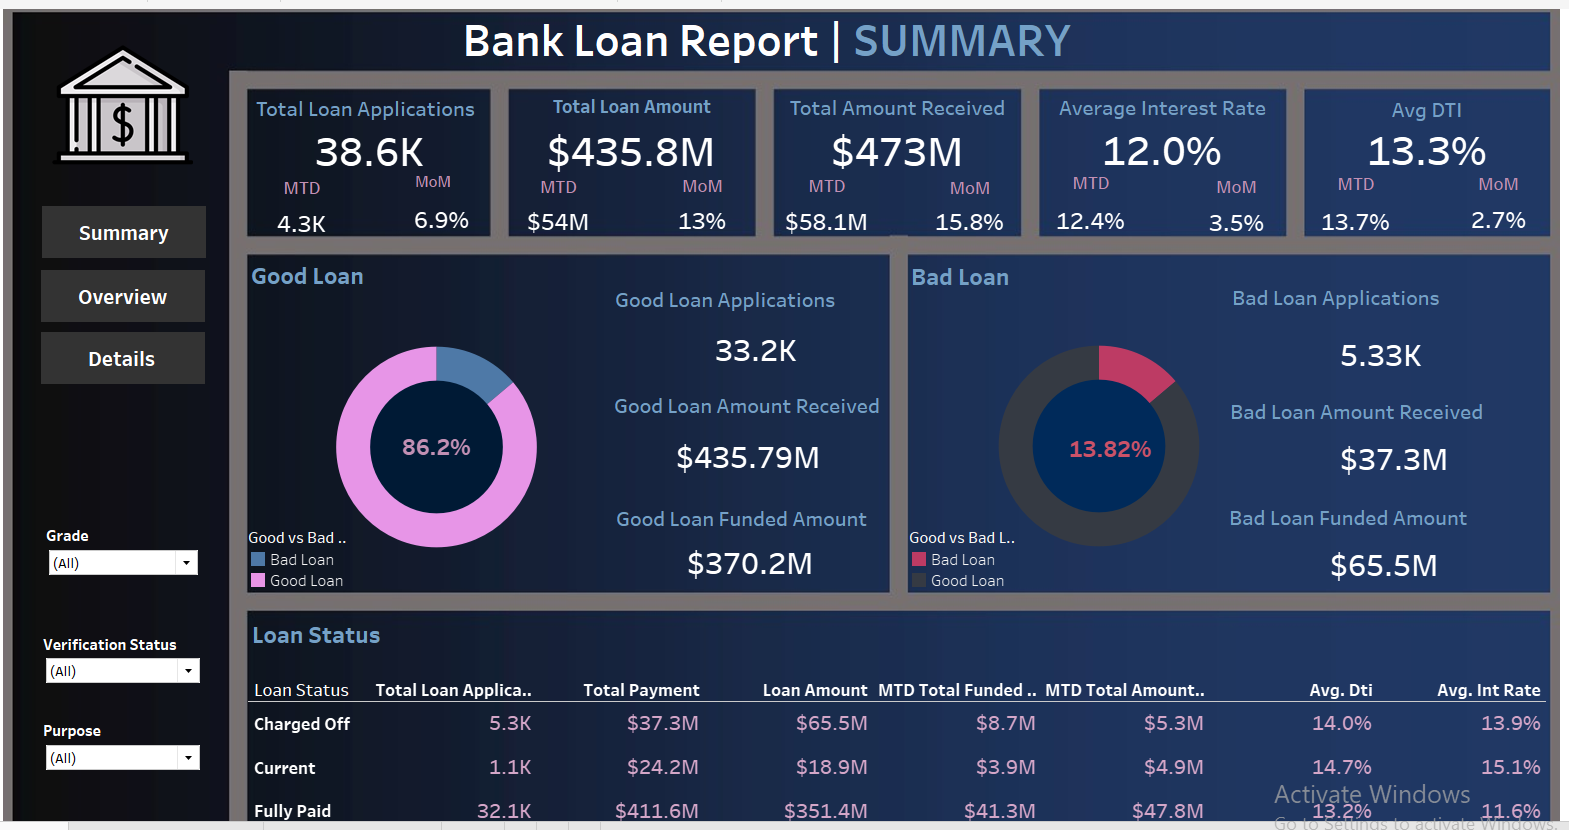

The page's visual inventory and layout, read from the dashboard file:
{"tool":"tableau","page":{"name":"Dashboard Summary","canvas":[1600,900],"ordinal":2},"visuals":[{"type":"image","param":"C:/Users/LENOVO/Downloads/Tableau Background 1.jpg","box":[8,8,1584,884]},{"type":"text","box":[477,21,620,49]},{"type":"image","param":"C:/Users/LENOVO/AppData/Local/Temp/TableauTemp/1yk98mv09h6rxd12l3qtc0nqyifh/Shee","box":[70,30,141,163]},{"type":"worksheet","title":"Total Funded Amount","mark":"Automatic","box":[527,96,246,83]},{"type":"worksheet","title":"Total Amount Received","mark":"Automatic","box":[793,96,245,80]},{"type":"worksheet","title":"Average Interest Rate","mark":"Automatic","box":[1055,96,251,78]},{"type":"worksheet","title":"Total Loan Applications","mark":"Automatic","box":[270,97,236,77]},{"type":"worksheet","title":"Avg DTI","mark":"Automatic","box":[1322,98,246,75]},{"type":"worksheet","title":"MTD Average Interest","mark":"Automatic","box":[1051,173,116,70]},{"type":"worksheet","title":"MoM Loan Applications","mark":"Automatic","box":[411,174,105,74]},{"type":"worksheet","title":"MTD Avg DTI","mark":"Automatic","box":[1322,174,104,70]},{"type":"worksheet","title":"MoM Avg DTI","mark":"Automatic","box":[1456,174,121,65]},{"type":"worksheet","title":"MoM Funded Amount","mark":"Automatic","box":[656,176,129,63]},{"type":"worksheet","title":"MTD Total Amount Received","mark":"Automatic","box":[794,176,102,65]},{"type":"worksheet","title":"MTD Total Funded Amount","mark":"Automatic","box":[524,177,105,63]},{"type":"worksheet","title":"MoM Average Interest","mark":"Automatic","box":[1193,177,123,66]},{"type":"worksheet","title":"MTD Loan Applications","mark":"Automatic","box":[266,178,108,65]},{"type":"worksheet","title":"MoM Total Amount Received","mark":"Automatic","box":[931,178,114,62]},{"type":"dashboard-object","box":[60,213,164,52]},{"type":"worksheet","title":"Good Loan","mark":"Pie","rows":["Calculation_77405639552786454","Calculation_77405639552897048"],"box":[265,262,379,337]},{"type":"worksheet","title":"Bad Loan","mark":"Pie","rows":["Calculation_77405639552786454","Calculation_77405639552897048"],"box":[925,263,384,333]},{"type":"dashboard-object","box":[59,277,164,52]},{"type":"worksheet","title":"Bad Loan Applications","mark":"Automatic","box":[1246,286,307,108]},{"type":"worksheet","title":"Good Loan Applications","mark":"Automatic","box":[629,288,291,93]},{"type":"dashboard-object","box":[59,339,164,52]},{"type":"worksheet","title":"Good Loan Amount Received","mark":"Automatic","box":[628,394,278,95]},{"type":"worksheet","title":"Bad Loan Amount Received","mark":"Automatic","box":[1244,400,338,88]},{"type":"worksheet","title":"Bad Loan Applications %","mark":"Automatic","box":[1078,406,102,98]},{"type":"worksheet","title":"Good Loan Applications %","mark":"Automatic","box":[404,409,101,88]},{"type":"worksheet","title":"Bad Loan Funded Amount","mark":"Automatic","box":[1243,506,319,88]},{"type":"worksheet","title":"Good Loan Funded Amount","mark":"Automatic","box":[630,507,277,82]},{"type":"filter","title":"Good Loan","param":"[federated.04lrqcg0eo35961g28ode0irnr3b].[none:grade:nk]","box":[64,532,155,55]},{"type":"legend","title":"Good Loan","param":"[federated.04lrqcg0eo35961g28ode0irnr3b].[Good vs Bad Loan]","box":[266,534,103,64]},{"type":"legend","title":"Bad Loan","param":"[federated.04lrqcg0eo35961g28ode0irnr3b].[Good vs Bad Loan (copy)_77405639573970","box":[927,534,110,64]},{"type":"worksheet","title":"Loan Status","mark":"Automatic","rows":["loan_status"],"box":[266,621,1298,263]},{"type":"filter","title":"Good Loan","param":"[federated.04lrqcg0eo35961g28ode0irnr3b].[none:verification_status:nk]","box":[61,641,160,51]},{"type":"filter","title":"Good Loan","param":"[federated.04lrqcg0eo35961g28ode0irnr3b].[none:purpose:nk]","box":[61,727,160,60]}]}

Visuals, with their boxes on the page's 1600x900 design canvas (x1, y1, x2, y2). These are canvas units, not pixel positions in the 1569x830 screenshot, which may show the page scaled, cropped or inside an application window:
image: box=[8, 8, 1592, 892]
text: box=[477, 21, 1097, 70]
image: box=[70, 30, 211, 193]
"Total Funded Amount" worksheet: box=[527, 96, 773, 179]
"Total Amount Received" worksheet: box=[793, 96, 1038, 176]
"Average Interest Rate" worksheet: box=[1055, 96, 1306, 174]
"Total Loan Applications" worksheet: box=[270, 97, 506, 174]
"Avg DTI" worksheet: box=[1322, 98, 1568, 173]
"MTD Average Interest" worksheet: box=[1051, 173, 1167, 243]
"MoM Loan Applications" worksheet: box=[411, 174, 516, 248]
"MTD Avg DTI" worksheet: box=[1322, 174, 1426, 244]
"MoM Avg DTI" worksheet: box=[1456, 174, 1577, 239]
"MoM Funded Amount" worksheet: box=[656, 176, 785, 239]
"MTD Total Amount Received" worksheet: box=[794, 176, 896, 241]
"MTD Total Funded Amount" worksheet: box=[524, 177, 629, 240]
"MoM Average Interest" worksheet: box=[1193, 177, 1316, 243]
"MTD Loan Applications" worksheet: box=[266, 178, 374, 243]
"MoM Total Amount Received" worksheet: box=[931, 178, 1045, 240]
dashboard-object: box=[60, 213, 224, 265]
"Good Loan" worksheet (Pie marks): box=[265, 262, 644, 599]
"Bad Loan" worksheet (Pie marks): box=[925, 263, 1309, 596]
dashboard-object: box=[59, 277, 223, 329]
"Bad Loan Applications" worksheet: box=[1246, 286, 1553, 394]
"Good Loan Applications" worksheet: box=[629, 288, 920, 381]
dashboard-object: box=[59, 339, 223, 391]
"Good Loan Amount Received" worksheet: box=[628, 394, 906, 489]
"Bad Loan Amount Received" worksheet: box=[1244, 400, 1582, 488]
"Bad Loan Applications %" worksheet: box=[1078, 406, 1180, 504]
"Good Loan Applications %" worksheet: box=[404, 409, 505, 497]
"Bad Loan Funded Amount" worksheet: box=[1243, 506, 1562, 594]
"Good Loan Funded Amount" worksheet: box=[630, 507, 907, 589]
"Good Loan" filter: box=[64, 532, 219, 587]
"Good Loan" legend: box=[266, 534, 369, 598]
"Bad Loan" legend: box=[927, 534, 1037, 598]
"Loan Status" worksheet: box=[266, 621, 1564, 884]
"Good Loan" filter: box=[61, 641, 221, 692]
"Good Loan" filter: box=[61, 727, 221, 787]
